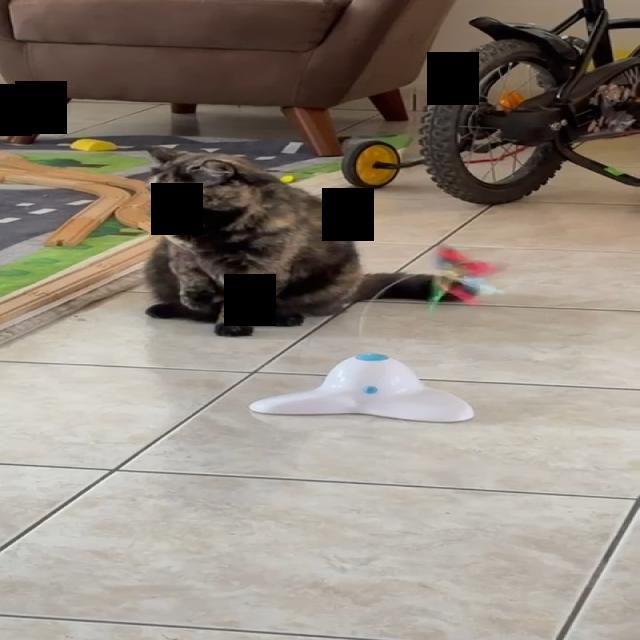authorized: (140, 144, 476, 337)
